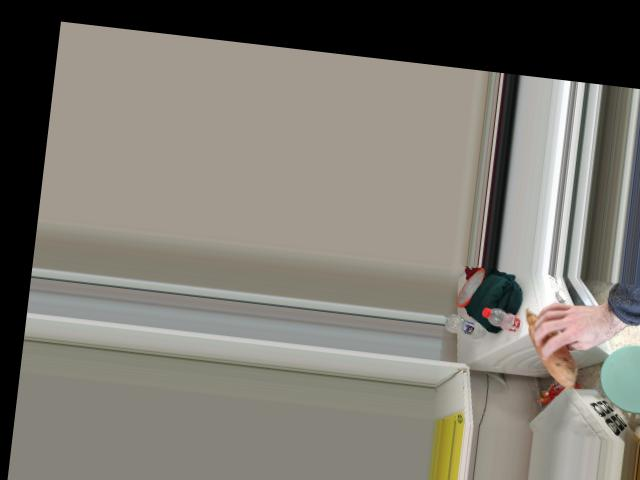sweet_potato: (520, 303, 582, 383)
